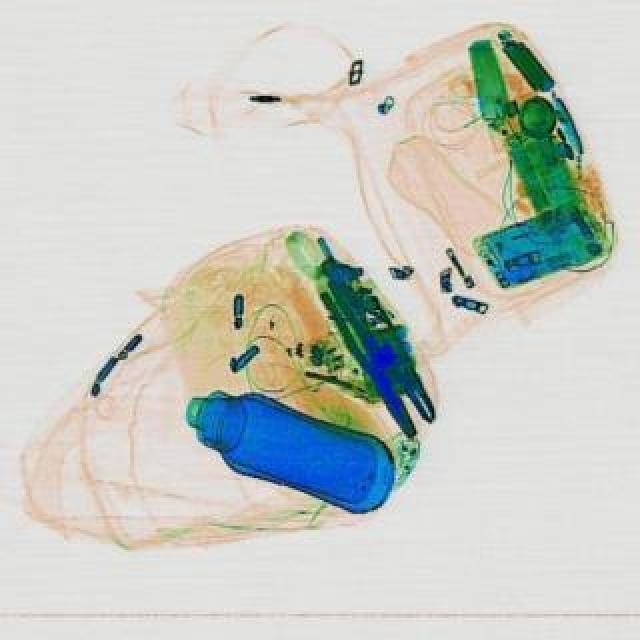wrench: (324, 272, 444, 436)
